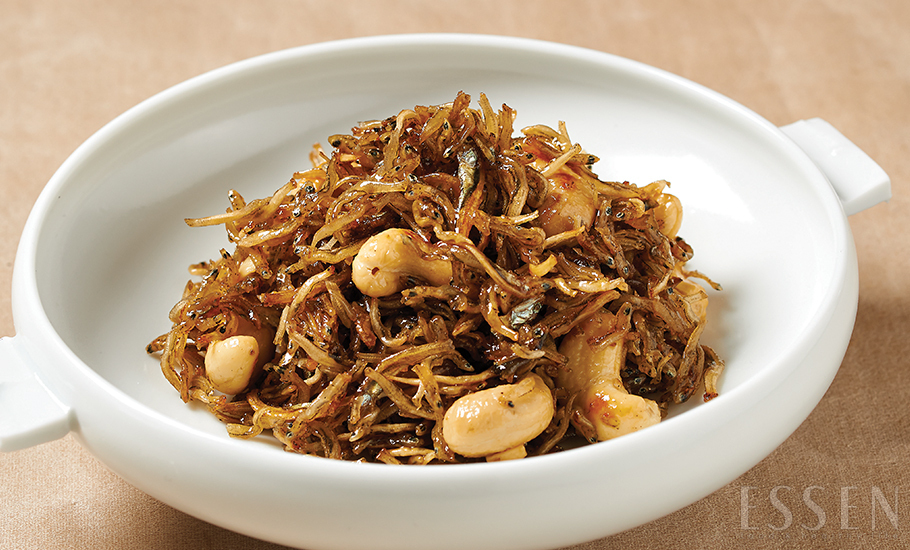myeolchibokk-eum: (139, 87, 734, 467)
